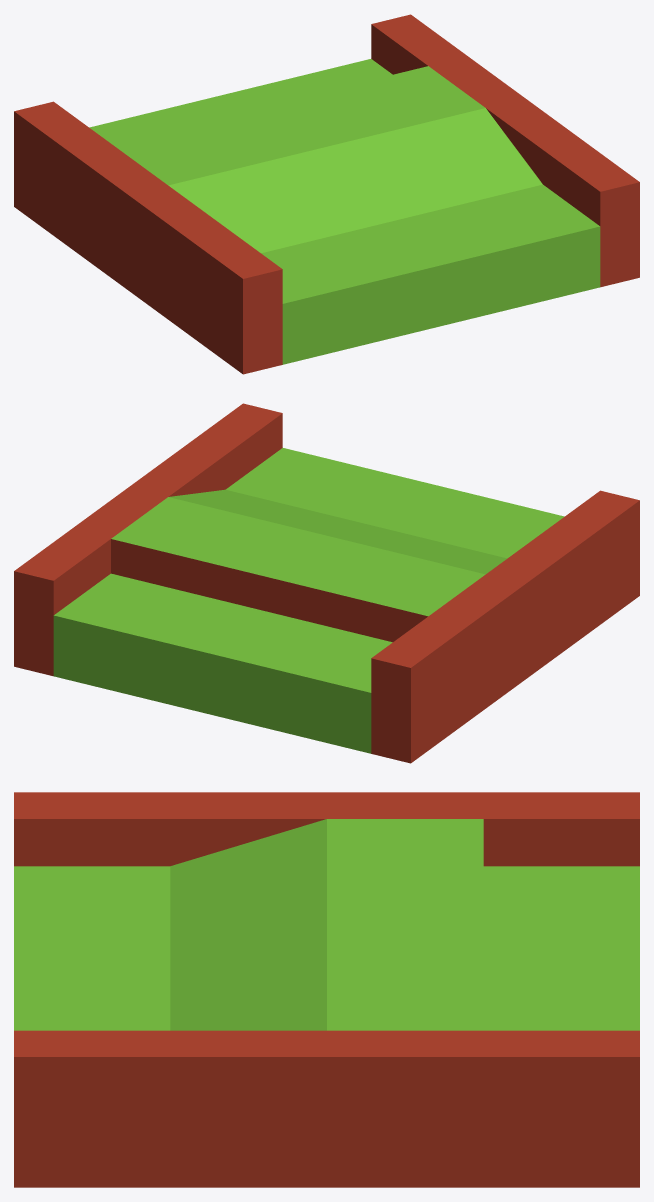
File: Ramp_OnewWay_Square.FBX
3 views of the same model, one above another, from view 1: azimuth 30°, elevation 25°; view 2: azimuth 150°, elevation 25°; view 3: azimuth 270°, elevation 25° (orthographic). The views are drawn at different scales.
Visible parts, largest first — view 1: Ramp_square_01, Walls; view 2: Ramp_square_01, Walls; view 3: Walls, Ramp_square_01.
Boxes of the visible parts, x1,y1,x2,y2 form: Ramp_square_01: (89, 59, 600, 364); Walls: (14, 14, 639, 374); Ramp_square_01: (53, 448, 564, 753); Walls: (14, 403, 639, 763); Walls: (14, 792, 639, 1187); Ramp_square_01: (14, 819, 639, 1030).
Size of the model in its own units: 0.9999 by 0.9999 by 0.23.
